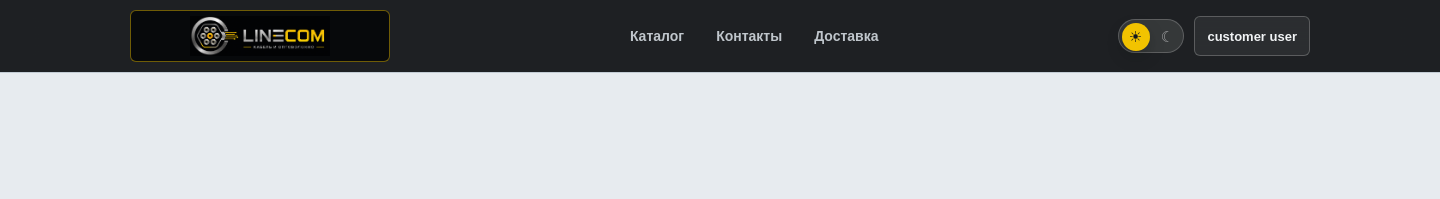
Test: SiteHeader › opens account actions from the user menu
Click the button "customer user".
click(1252, 36)  # box [1194, 16, 1310, 56]
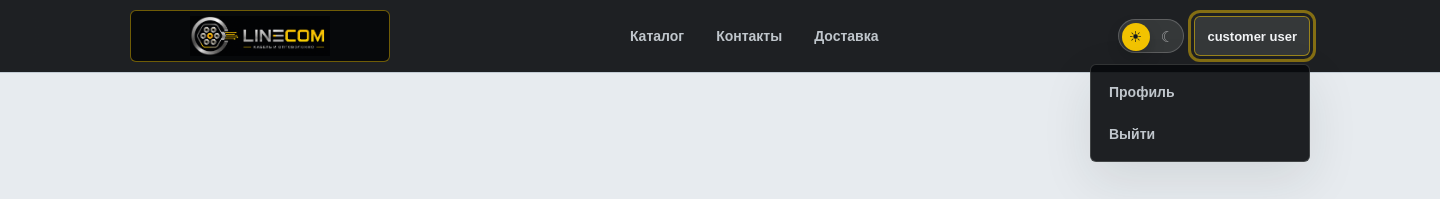
Now the button "Выйти" is shown, box [1099, 115, 1301, 153]
